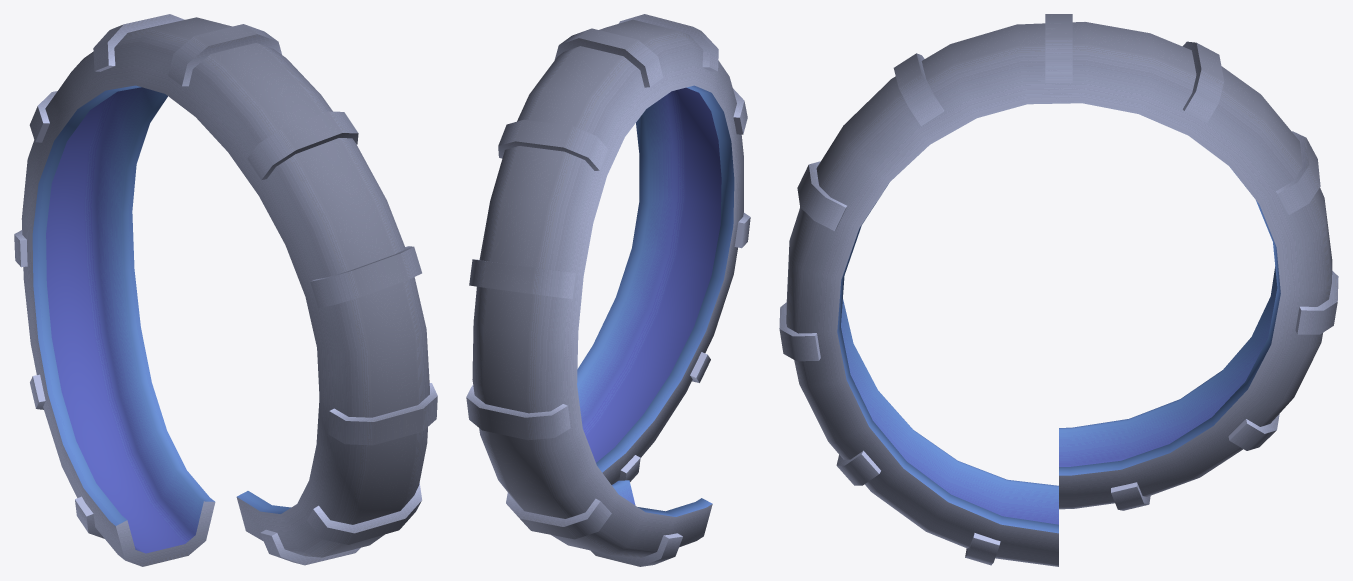
The model's file is coaster-flume-looping.glb.
The picture shows the model from 3 angles, left to right: view 1: azimuth 30°, elevation 25°; view 2: azimuth 150°, elevation 25°; view 3: azimuth 270°, elevation 25°; orthographic projection. The views are drawn at different scales.
Visible parts, largest first — view 1: coaster-flume-looping; view 2: coaster-flume-looping; view 3: coaster-flume-looping.
Part boxes in pixels (box(x1,y1,x2,y2)): coaster-flume-looping: box(14, 14, 437, 566); coaster-flume-looping: box(466, 14, 750, 566); coaster-flume-looping: box(779, 14, 1338, 566).
Size of the model in its own units: 1.83 by 4.05 by 4.09.
1 material, 1 textured.
